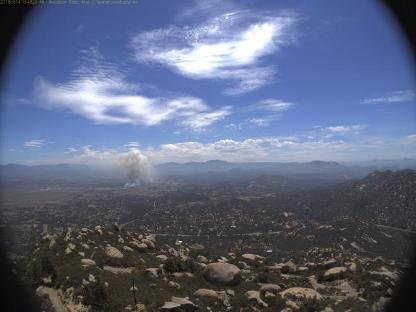smoke: (111, 147, 157, 189)
